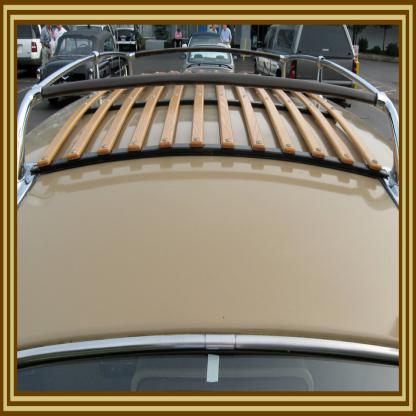Car: (17, 21, 398, 394)
